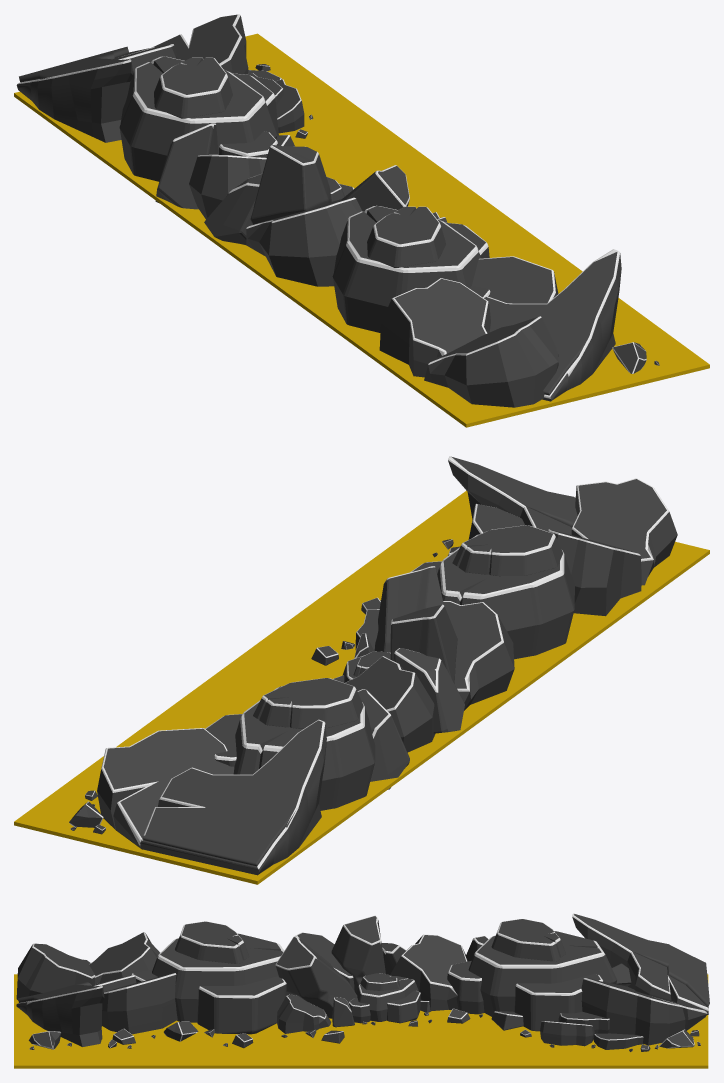
File: Pebble's Road Section 03 Old.fbx
3 renders of one model, top to bottom at view 1: azimuth 30°, elevation 25°; view 2: azimuth 150°, elevation 25°; view 3: azimuth 270°, elevation 25°, orthographic. The views are drawn at different scales.
Visible parts, largest first — view 1: Ground, Rock_10 (×2), Rock_07 (×4), Rock_02 (×2), Rock_04 (×3), Rock_13 (×2), Rock_12 (×2), Rock_12 (7<; view 2: Ground, Rock_10 (×3), Rock_02 (×2), Rock_07 (×4), Rock_04 (×2), Rock_13 (×2), Rock_12 (×2); view 3: Rock_10 (×3), Ground, Rock_04 (×5), Rock_07 (×5), Rock_02 (×2), Rock_13 (×2), Rock_12 (×4), Rock_11 (27-, Rock_12 (77, Rock_12 (7<, Rock_11 (271.
Boxes of the visible parts, box(x1,y1,x2,y2) form: Ground: box(14, 33, 709, 427); Rock_10 (×2): box(119, 56, 490, 332); Rock_07 (×4): box(189, 154, 558, 407); Rock_02 (×2): box(16, 44, 621, 401); Rock_04 (×3): box(152, 14, 558, 303); Rock_13 (×2): box(250, 145, 409, 224); Rock_12 (×2): box(155, 123, 262, 244); Rock_12 (7<: box(612, 342, 646, 373); Ground: box(14, 490, 709, 884); Rock_10 (×3): box(205, 525, 574, 810); Rock_02 (×2): box(140, 456, 577, 875); Rock_07 (×4): box(345, 478, 677, 752); Rock_04 (×2): box(97, 503, 524, 849); Rock_13 (×2): box(374, 566, 457, 683); Rock_12 (×2): box(357, 648, 464, 789); Rock_10 (×3): box(131, 919, 617, 1034); Ground: box(14, 974, 708, 1068); Rock_04 (×5): box(102, 973, 707, 1049); Rock_07 (×5): box(16, 932, 467, 1033); Rock_02 (×2): box(16, 913, 709, 1046); Rock_13 (×2): box(275, 915, 385, 1018); Rock_12 (×4): box(332, 943, 694, 1048); Rock_11 (27-: box(491, 1011, 523, 1030); Rock_12 (77: box(163, 1021, 198, 1041); Rock_12 (7<: box(28, 1031, 61, 1049); Rock_11 (271: box(112, 1028, 135, 1044).
Bounding box in the file's own units: 7128 × 3183 × 22552.
